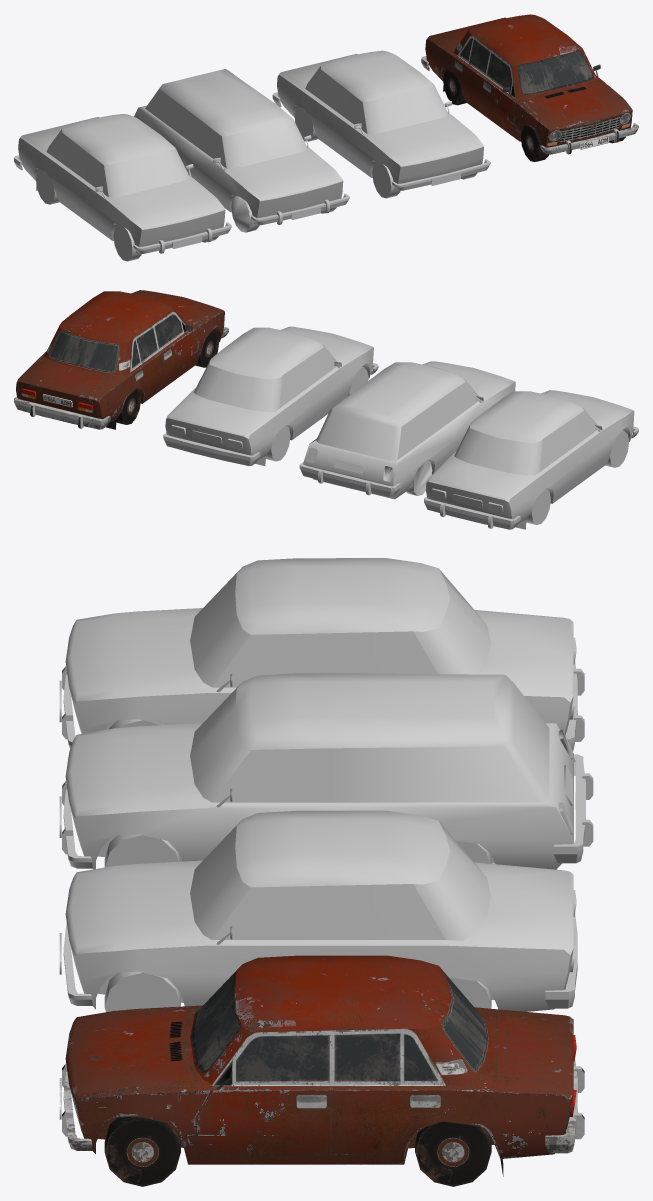
The model's file is zhiguli.fbx.
3 renders of one model, top to bottom at view 1: azimuth 30°, elevation 25°; view 2: azimuth 150°, elevation 25°; view 3: azimuth 270°, elevation 25°, orthographic. The views are drawn at different scales.
Visible parts, largest first — view 1: zhiguli_green, zhiguli_red, zhiguli_gray, zhiguli_blue; view 2: zhiguli_green, zhiguli_red, zhiguli_gray, zhiguli_blue; view 3: zhiguli_red, zhiguli_blue, zhiguli_gray, zhiguli_green.
Part boxes in pixels (x1,y1,x2,y2): zhiguli_green: [14, 114, 231, 261]; zhiguli_red: [421, 14, 638, 161]; zhiguli_gray: [272, 50, 490, 198]; zhiguli_blue: [134, 69, 349, 232]; zhiguli_green: [424, 390, 638, 529]; zhiguli_red: [14, 290, 228, 429]; zhiguli_gray: [163, 326, 378, 465]; zhiguli_blue: [299, 361, 515, 499]; zhiguli_red: [59, 955, 584, 1186]; zhiguli_blue: [59, 673, 593, 869]; zhiguli_gray: [59, 810, 577, 1012]; zhiguli_green: [59, 558, 584, 751].
Size of the model in its own units: 9.29 by 1.43 by 4.25.
